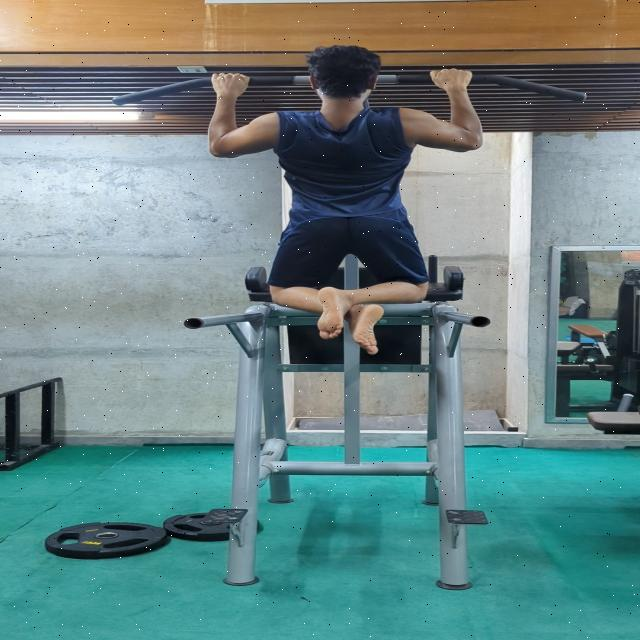Normal_PullUps: (203, 46, 490, 359)
